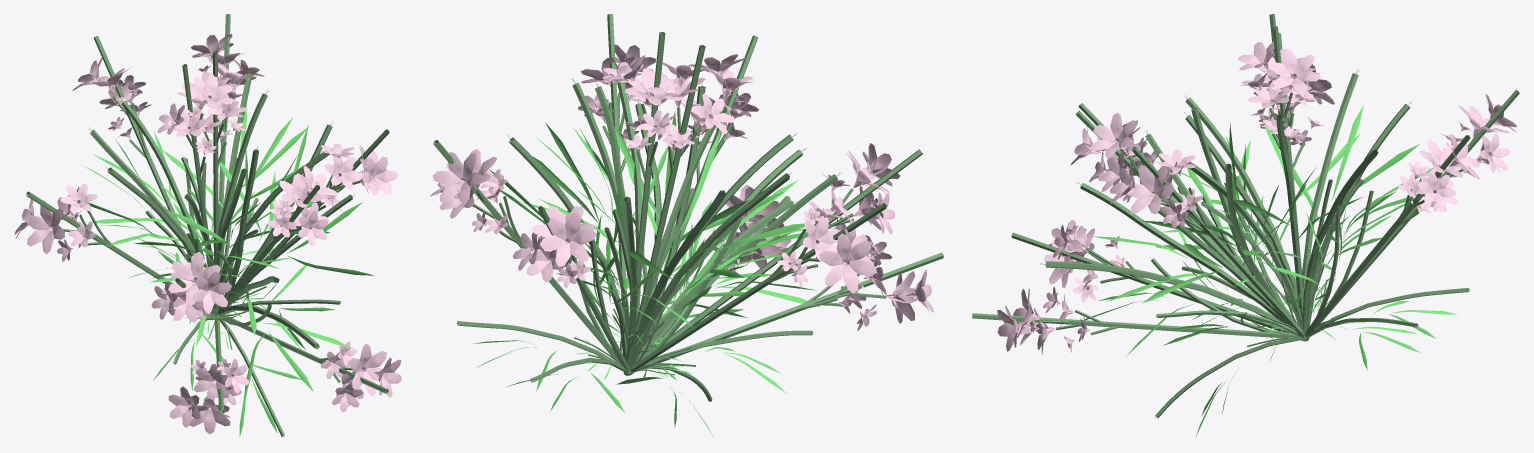
Rendered from mor.gltf.
3 views of the same model, side by side, from view 1: azimuth 30°, elevation 25°; view 2: azimuth 150°, elevation 25°; view 3: azimuth 270°, elevation 25° (orthographic). The views are drawn at different scales.
Visible parts, largest first — view 1: Mesh_3, Mesh_8, Mesh_7, Mesh_2, Mesh_0; view 2: Mesh_3, Mesh_8, Mesh_2, Mesh_7, Mesh_0; view 3: Mesh_8, Mesh_3, Mesh_7, Mesh_2, Mesh_0.
Boxes of the visible parts, bbox=[...] form: Mesh_3: bbox=[14, 34, 401, 434]; Mesh_8: bbox=[89, 69, 354, 437]; Mesh_7: bbox=[84, 105, 374, 437]; Mesh_2: bbox=[26, 14, 389, 413]; Mesh_0: bbox=[62, 76, 360, 400]; Mesh_3: bbox=[430, 44, 933, 330]; Mesh_8: bbox=[456, 78, 840, 401]; Mesh_2: bbox=[433, 14, 943, 373]; Mesh_7: bbox=[473, 110, 821, 435]; Mesh_0: bbox=[473, 92, 886, 309]; Mesh_8: bbox=[1039, 69, 1470, 418]; Mesh_3: bbox=[997, 41, 1516, 354]; Mesh_7: bbox=[1083, 105, 1457, 436]; Mesh_2: bbox=[972, 14, 1519, 339]; Mesh_0: bbox=[1041, 92, 1472, 335].
Bounding box in the file's own units: 385 × 413 × 515.
